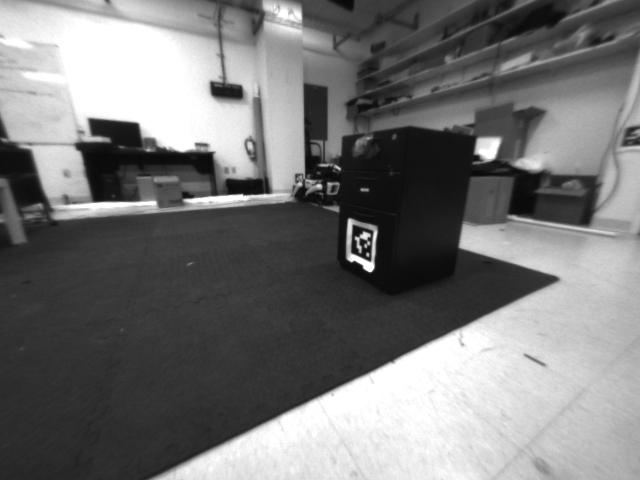drawer: (345, 132, 383, 165)
